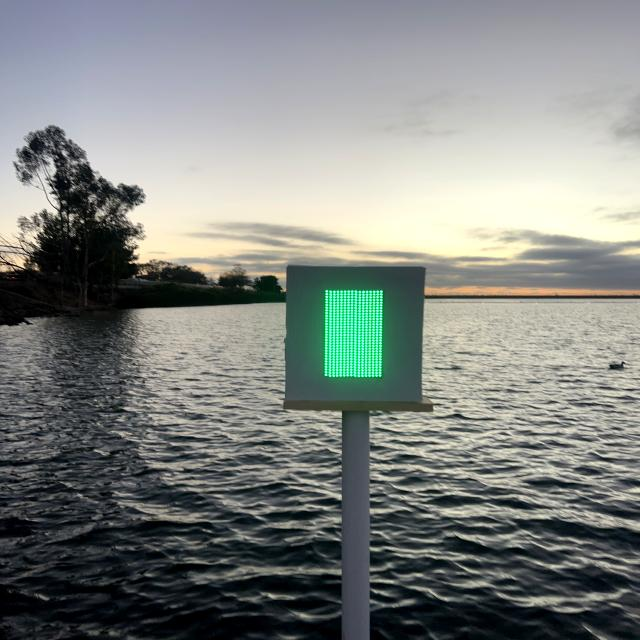led: (301, 278, 408, 400)
